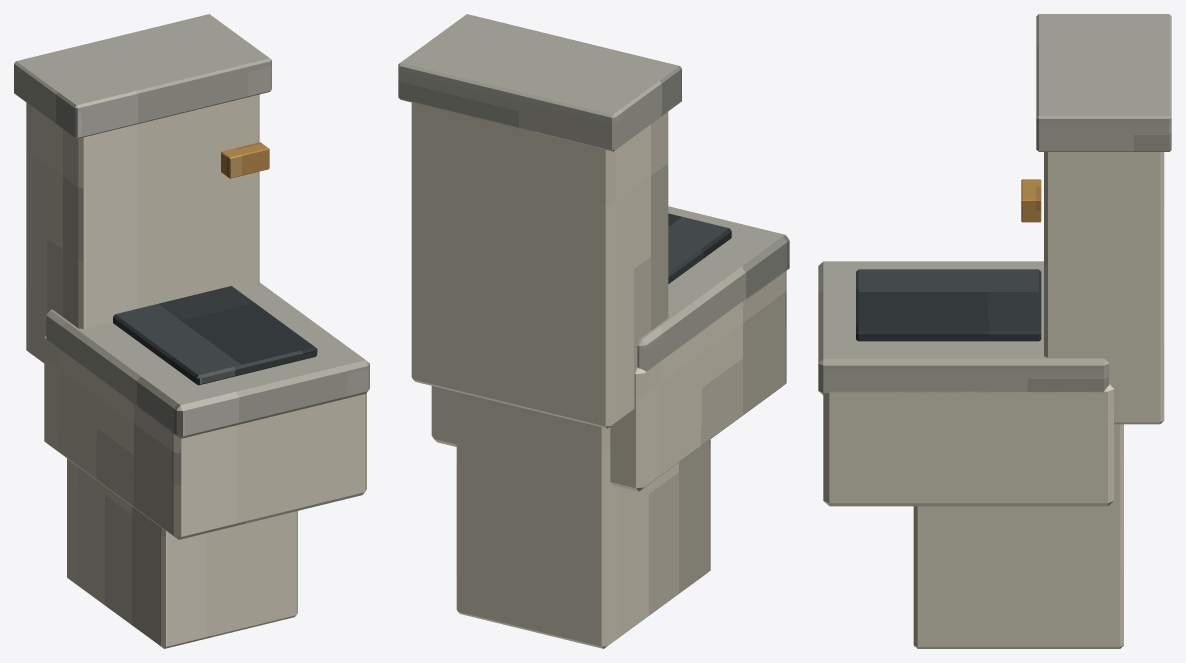
File: public_restroom_toilet.glb
3 renders of one model, left to right at view 1: azimuth 30°, elevation 25°; view 2: azimuth 150°, elevation 25°; view 3: azimuth 270°, elevation 25°, orthographic. The views are drawn at different scales.
Parts seen in each view (by area): view 1: ToiletTank, ToiletBowl, ToiletPedestal, ToiletTankLid, ToiletSeat, ToiletOpening, FlushLever; view 2: ToiletTank, ToiletPedestal, ToiletTankLid, ToiletBowl, ToiletSeat, ToiletOpening; view 3: ToiletBowl, ToiletPedestal, ToiletTank, ToiletSeat, ToiletTankLid, ToiletOpening, FlushLever.
Boxes of the visible parts, left/top/right/bottom form: ToiletTank: left=26, top=94, right=259, bottom=363; ToiletBowl: left=44, top=335, right=366, bottom=539; ToiletPedestal: left=67, top=458, right=297, bottom=648; ToiletTankLid: left=14, top=14, right=271, bottom=138; ToiletSeat: left=46, top=282, right=369, bottom=438; ToiletOpening: left=113, top=286, right=317, bottom=385; FlushLever: left=221, top=142, right=269, bottom=178; ToiletTank: left=411, top=102, right=668, bottom=428; ToiletPedestal: left=456, top=392, right=710, bottom=648; ToiletTankLid: left=398, top=14, right=681, bottom=151; ToiletBowl: left=431, top=271, right=786, bottom=491; ToiletSeat: left=637, top=206, right=789, bottom=371; ToiletOpening: left=668, top=213, right=731, bottom=283; ToiletBowl: left=823, top=384, right=1113, bottom=506; ToiletPedestal: left=913, top=424, right=1123, bottom=648; ToiletTank: left=1044, top=152, right=1164, bottom=424; ToiletSeat: left=818, top=261, right=1108, bottom=395; ToiletTankLid: left=1036, top=14, right=1171, bottom=151; ToiletOpening: left=856, top=269, right=1041, bottom=341; FlushLever: left=1021, top=179, right=1041, bottom=222.
Size of the model in its own units: 0.49 by 1.21 by 0.705.
1 material, 1 textured.
